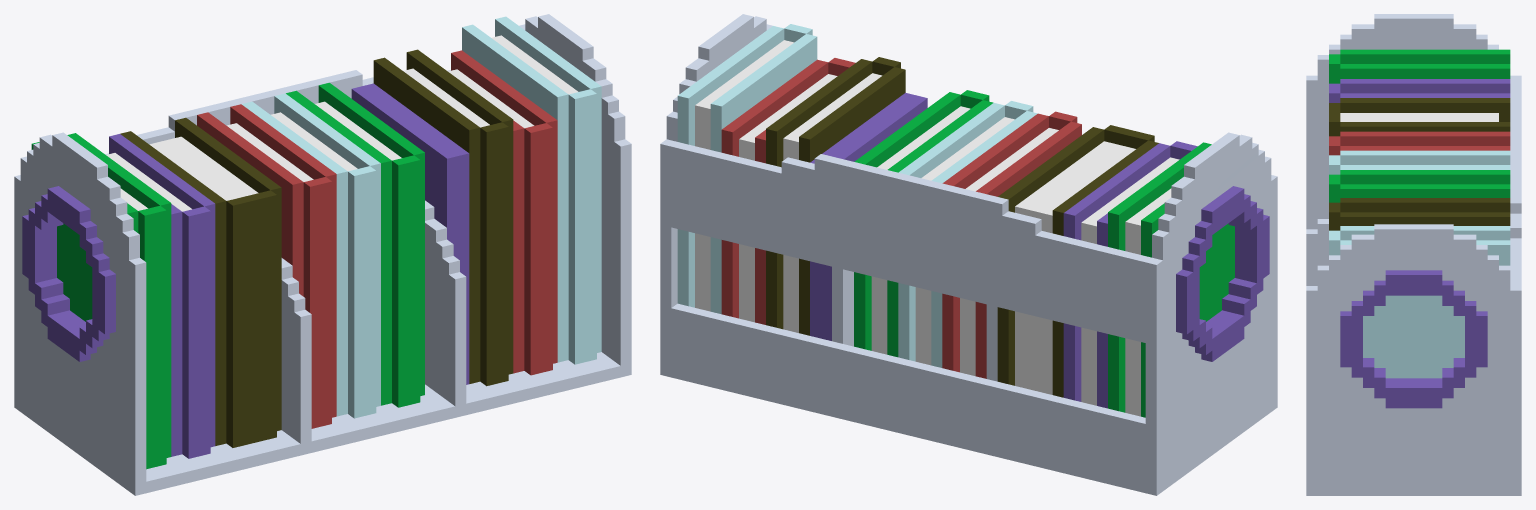
File: Bookshelf4.fbx
The picture shows the model from 3 angles, left to right: view 1: azimuth 30°, elevation 25°; view 2: azimuth 150°, elevation 25°; view 3: azimuth 270°, elevation 25°; orthographic projection. The views are drawn at different scales.
Visible parts, largest first — view 1: Bookshelf4; view 2: Bookshelf4; view 3: Bookshelf4.
Boxes of the visible parts, x1,y1,x2,y2 form: Bookshelf4: (14,14,631,495); Bookshelf4: (660,14,1277,495); Bookshelf4: (1306,14,1521,495).
Size of the model in its own units: 4.7 by 2.6 by 1.9.
